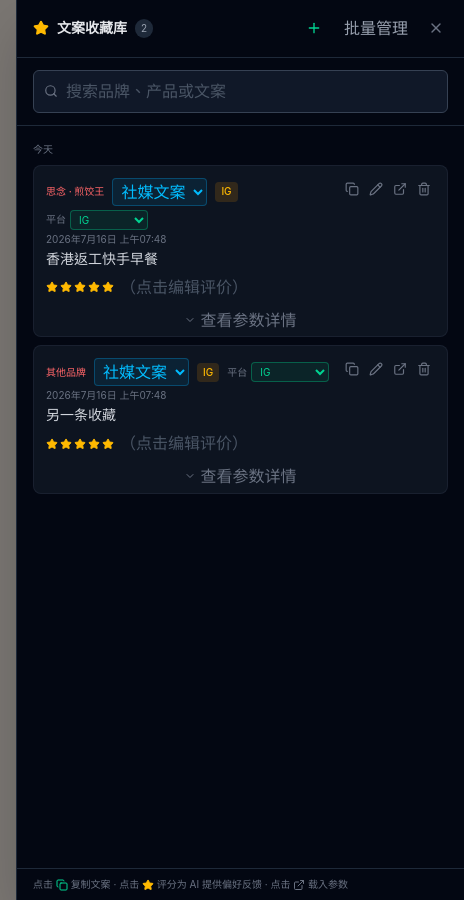
Test: 收藏库检索与分页 › 可按品牌、产品、原文或收藏文案快速检索
Type "煎饺王" into the search field named "搜索收藏" at (252, 91), box [66,79,437,104]
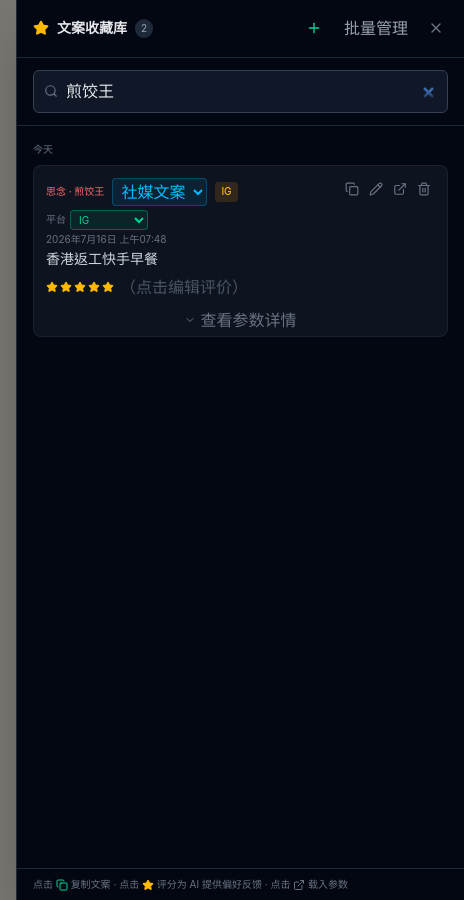
Check: the text "香港返工快手早餐" is shown, box [46,250,158,267]
Check: the text "另一条收藏" is gone
